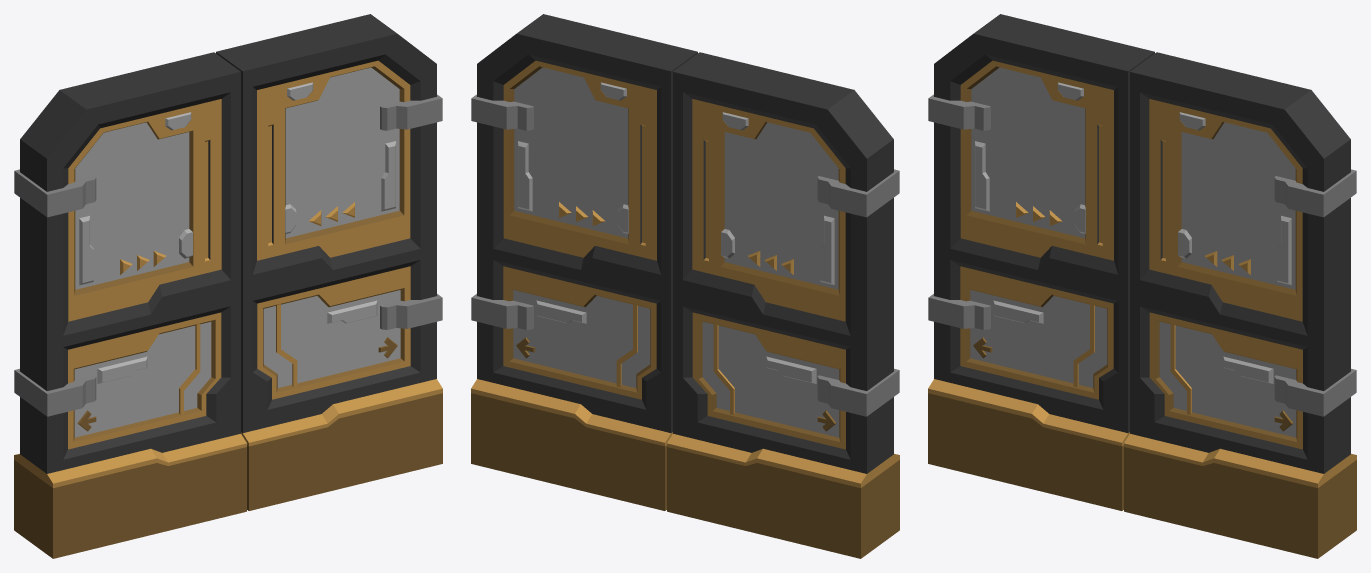
Rendered from Door_Double.gltf.
The picture shows the model from 3 angles, left to right: view 1: azimuth 30°, elevation 25°; view 2: azimuth 150°, elevation 25°; view 3: azimuth 330°, elevation 25°; orthographic projection.
Parts seen in each view (by area): view 1: Door_Double.L, Door_Double.R; view 2: Door_Double.L, Door_Double.R; view 3: Door_Double.R, Door_Double.L.
Part boxes in pixels (x1,y1,x2,y2): Door_Double.L: (14, 52, 246, 558); Door_Double.R: (216, 14, 442, 510); Door_Double.L: (667, 52, 899, 558); Door_Double.R: (471, 14, 697, 510); Door_Double.R: (1124, 52, 1356, 558); Door_Double.L: (928, 14, 1154, 510).
Bounding box in the file's own units: 2.65 × 2.79 × 0.4542.
